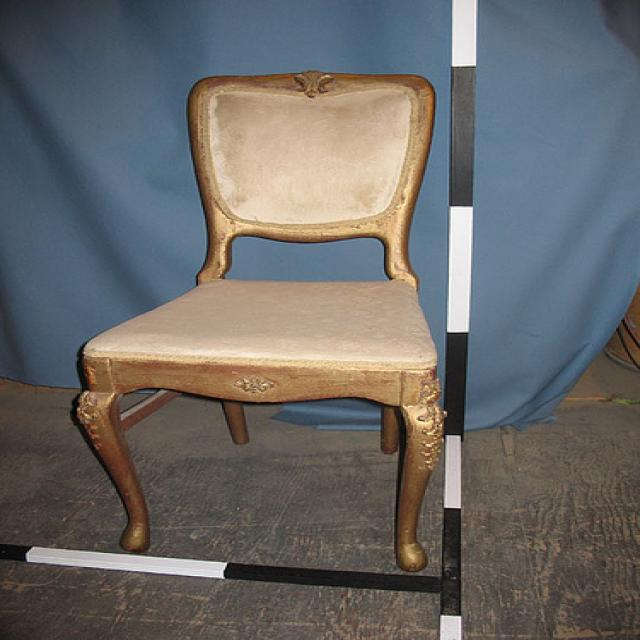chair: (70, 69, 447, 572)
